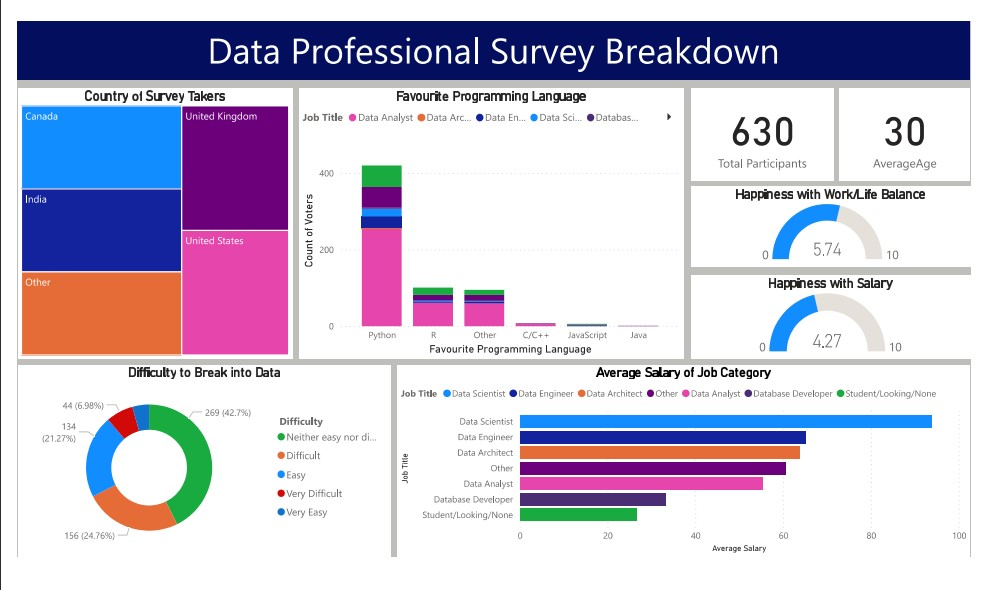

The dashboard page shown, as its layout file describes it:
{"tool":"powerbi","page":{"name":"Page 1","canvas":[1280,720],"ordinal":0},"visuals":[{"type":"textbox","box":[0,0,1279.9,12.2],"z":0},{"type":"textbox","box":[0,0,1279.9,79.5],"z":1000},{"type":"card","fields":{"Values":["Count(Data Professional Survey.Unique ID)"]},"box":[904.6,90.5,191.9,123.5],"z":2000},{"type":"card","fields":{"Values":["Data Professional Survey.AverageWithoutFractions"]},"box":[1105.1,90.5,174.8,123.5],"z":3000},{"type":"barChart","title":"Average Salary of Job Category","fields":{"Category":["Data Professional Survey.Q1 - Which Title Best Fits your Current Role?.1"],"Y":["Avg(Data Professional Survey.Average Salary)"],"Series":["Data Professional Survey.Q1 - Which Title Best Fits your Current Role?.1"]},"box":[509.7,462.1,770.1,257.9],"z":4000},{"type":"columnChart","title":"Favourite Programming Language","fields":{"Category":["Data Professional Survey.Q5 - Favorite Programming Language.1"],"Y":["CountNonNull(Data Professional Survey.Unique ID)"],"Series":["Data Professional Survey.Q1 - Which Title Best Fits your Current Role?.1"]},"box":[377.7,90.5,517.1,363.1],"z":5000},{"type":"treemap","title":"Country of Survey Takers ","fields":{"Group":["Data Professional Survey.Q11 - Which Country do you live in?.1"],"Values":["Count(Data Professional Survey.Q11 - Which Country do you live in?.1)"]},"box":[0,90,368.8,363.8],"z":6000},{"type":"gauge","title":" Happiness with Work/Life Balance","fields":{"Y":["Avg(Data Professional Survey.Q6 - How Happy are you in your Current Position with the following? (Work/Life Balance))"],"MinValue":["Min(Data Professional Survey.Q6 - How Happy are you in your Current Position with the following? (Work/Life Balance))"],"MaxValue":["Max(Data Professional Survey.Q6 - How Happy are you in your Current Position with the following? (Work/Life Balance))"]},"box":[904.6,222.5,375.3,107.6],"z":7000},{"type":"gauge","title":"Happiness with Salary","fields":{"Y":["Avg(Data Professional Survey.Q6 - How Happy are you in your Current Position with the following? (Salary))"],"MinValue":["Min(Data Professional Survey.Q6 - How Happy are you in your Current Position with the following? (Salary))"],"MaxValue":["Max(Data Professional Survey.Q6 - How Happy are you in your Current Position with the following? (Salary))"]},"box":[904.6,342.3,375.3,111.2],"z":8000},{"type":"donutChart","title":" Difficulty to Break into Data","fields":{"Category":["Data Professional Survey.Q7 - How difficult was it for you to break into Data?"],"Y":["CountNonNull(Data Professional Survey.Q7 - How difficult was it for you to break into Data?)"]},"box":[0,462.1,501.2,257.9],"z":9000}]}

Visuals, with their boxes in screenshot pixels (x1, y1, x2, y2):
textbox: locate(0, 18, 969, 27)
textbox: locate(0, 18, 969, 78)
card - Count(Data Professional Survey.Unique ID): locate(685, 86, 830, 180)
card - Data Professional Survey.AverageWithoutFractions: locate(837, 86, 969, 180)
"Average Salary of Job Category" barChart: locate(386, 368, 969, 563)
"Favourite Programming Language" columnChart: locate(286, 86, 678, 361)
"Country of Survey Takers " treemap: locate(0, 86, 279, 362)
" Happiness with Work/Life Balance" gauge: locate(685, 186, 969, 268)
"Happiness with Salary" gauge: locate(685, 277, 969, 361)
" Difficulty to Break into Data" donutChart: locate(0, 368, 380, 563)
